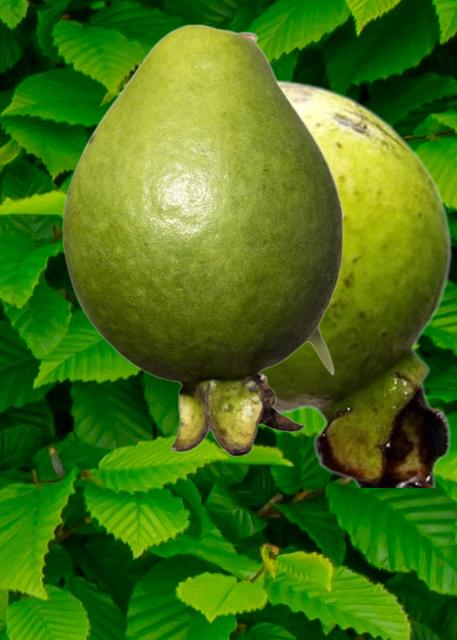guava: (62, 23, 342, 456), (177, 79, 452, 486)
